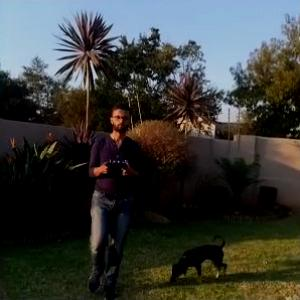follow: (83, 100, 145, 299)
null: (167, 232, 229, 287)
